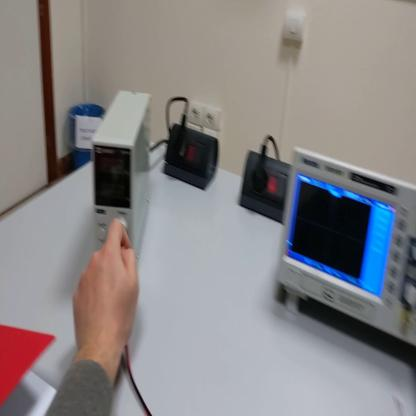hand: (75, 221, 140, 361)
oscilloscope: (280, 150, 416, 348)
power supply: (97, 92, 157, 267)
register: (2, 325, 57, 415)
socket: (242, 148, 292, 227), (163, 123, 220, 191)
